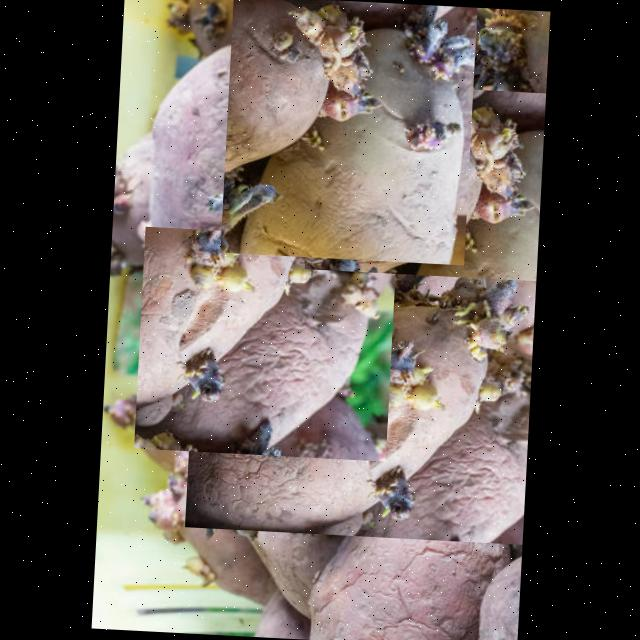Sprouted potato: (184, 262, 535, 544), (219, 0, 476, 265), (133, 226, 396, 462), (304, 81, 546, 282)
